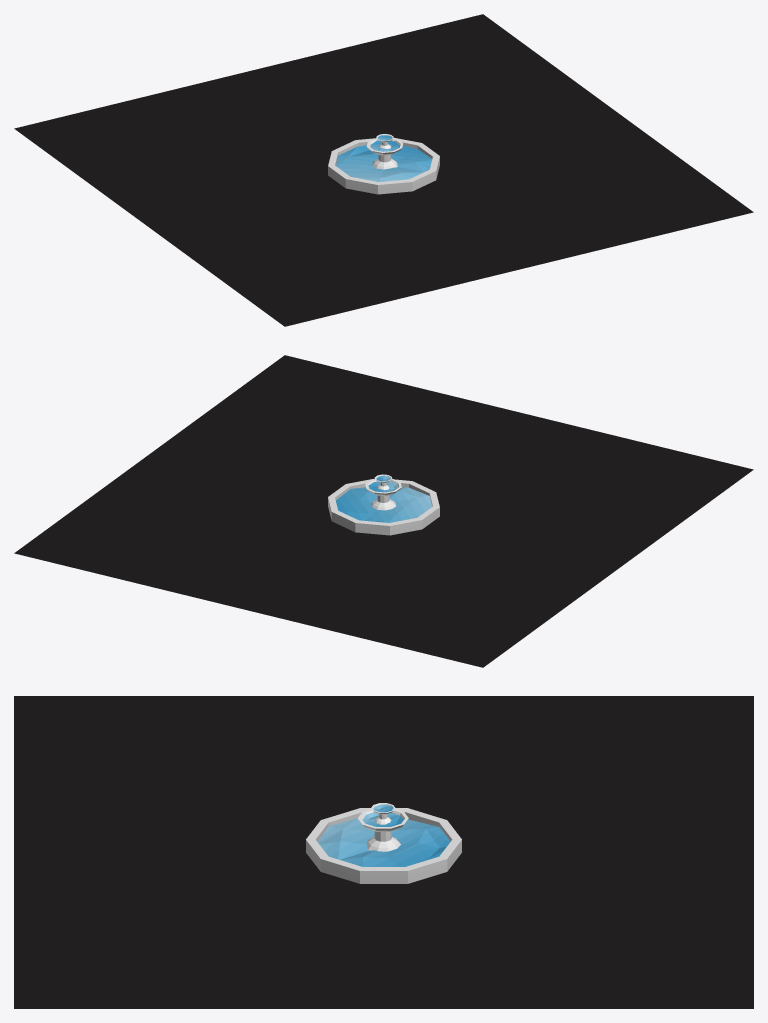
File: Tile 6_Combined.fbx
3 views of the same model, one above another, from view 1: azimuth 30°, elevation 25°; view 2: azimuth 150°, elevation 25°; view 3: azimuth 270°, elevation 25° (orthographic). The views are drawn at different scales.
Parts seen in each view (by area): view 1: MeshBaker_Cluster_0_mesh_mesh; view 2: MeshBaker_Cluster_0_mesh_mesh; view 3: MeshBaker_Cluster_0_mesh_mesh.
Boxes of the visible parts, x1,y1,x2,y2 form: MeshBaker_Cluster_0_mesh_mesh: [14, 14, 753, 326]; MeshBaker_Cluster_0_mesh_mesh: [14, 355, 753, 667]; MeshBaker_Cluster_0_mesh_mesh: [14, 696, 753, 1008].
Size of the model in its own units: 3000 by 201 by 3000.
